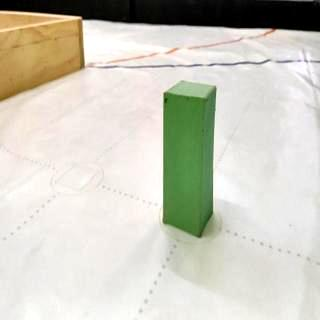greenbox: (161, 78, 218, 237)
